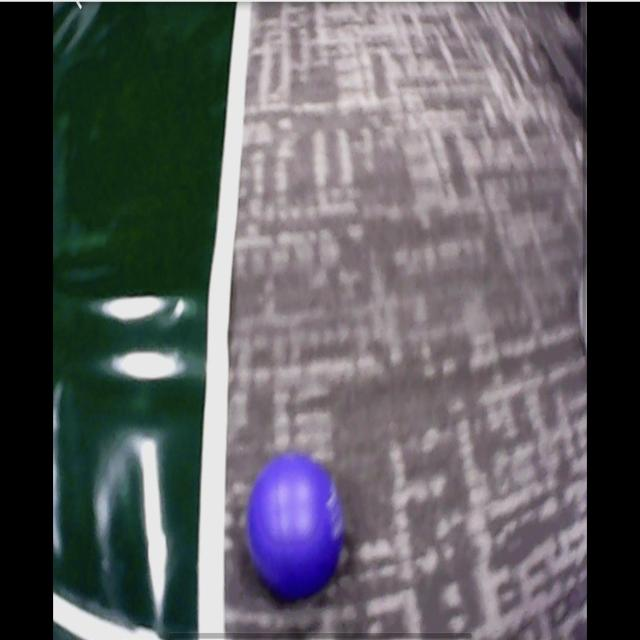ball: (245, 452, 342, 598)
